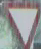Give way: (4, 0, 40, 47)
